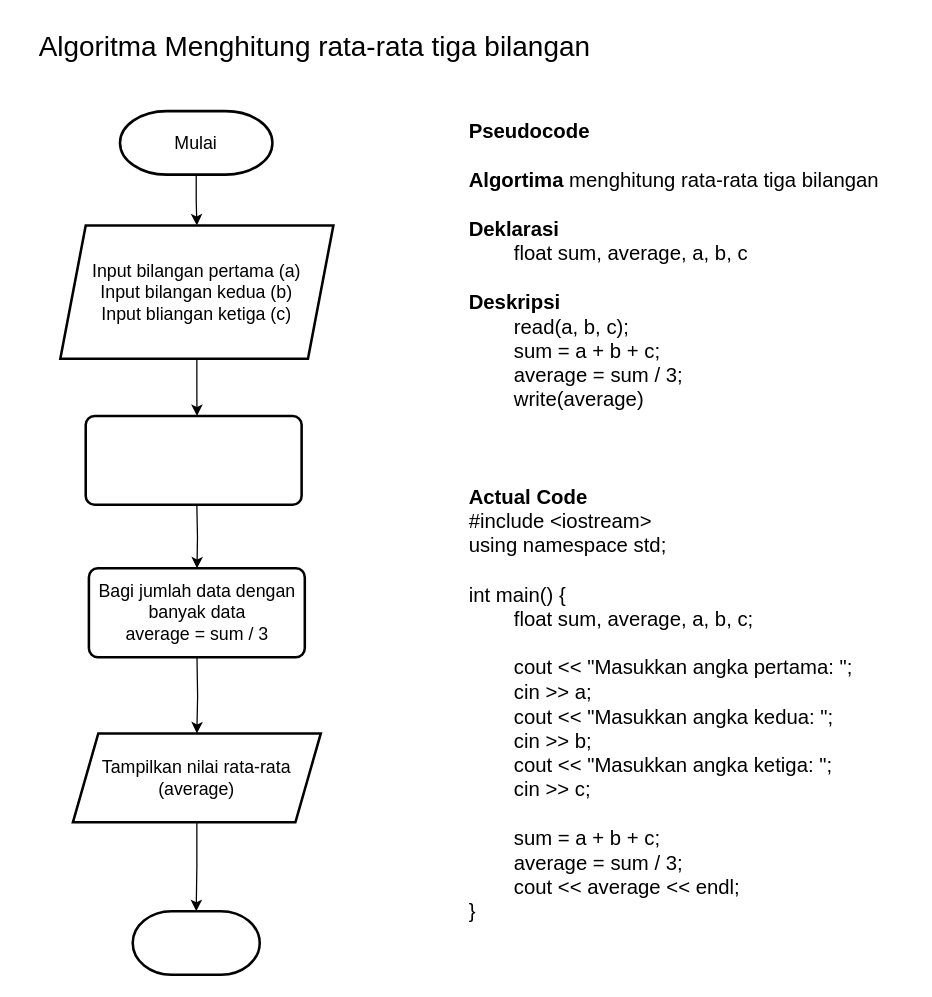
The diagram is 932 pixels wide and 997 high, and some of its shapes have lost their labels. The shapes that lost their labels are listed below. From the top down, each one's centre as x and y in pixels, then its label:
At [193,459]: "Jumlahkan ketiga variable sum = a + b + c".
At [195,942]: "Selesai".
